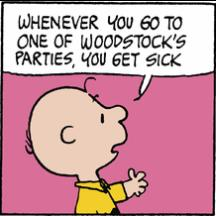charlie: (24, 75, 150, 215)
